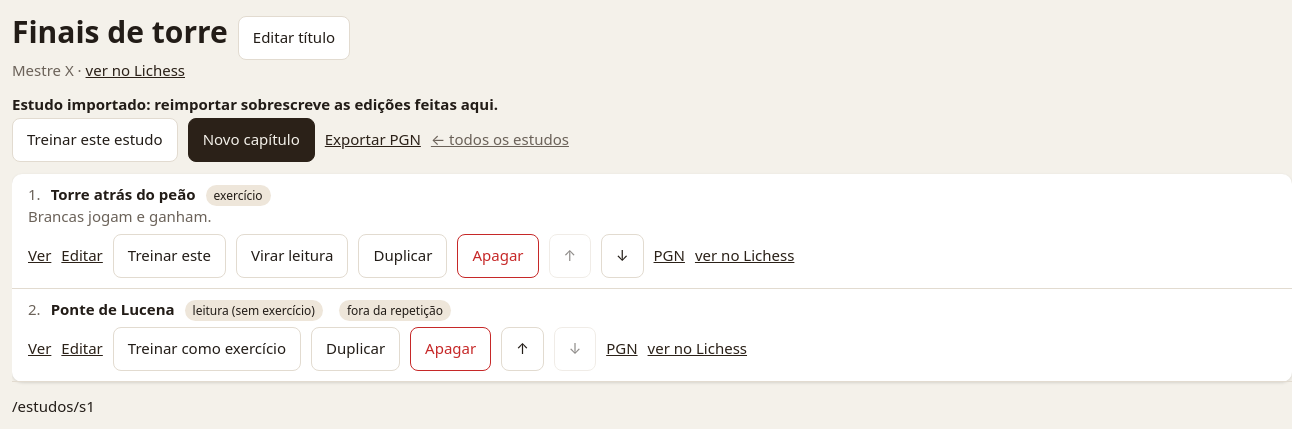
virar exercício sem lances avisa que não vira exercício
expect the text "Ponte de Lucena" is shown: met, box [51, 299, 174, 321]
Click the button "Treinar como exercício". click: (207, 349)
box: [113, 327, 301, 371]
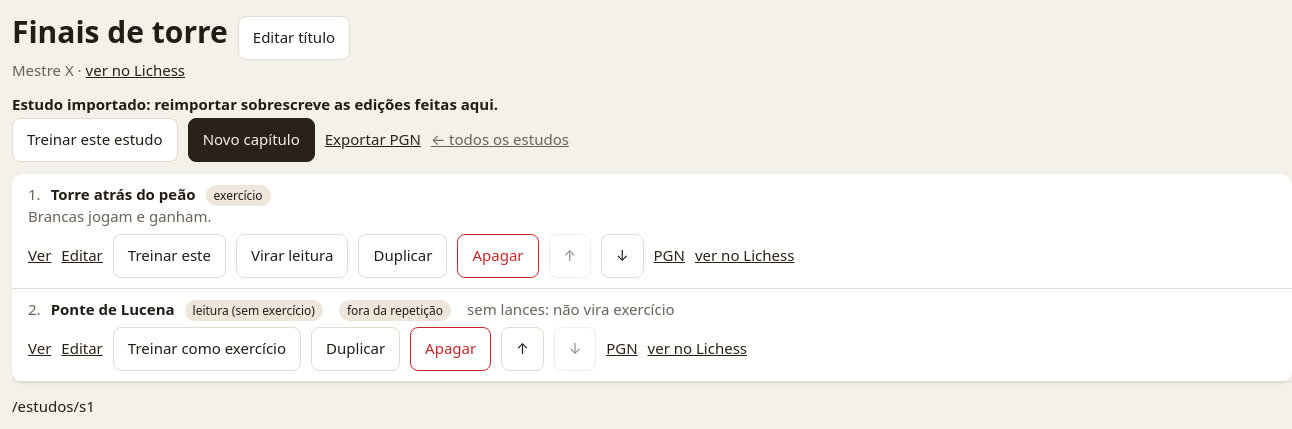
expect the text "sem lances: não vira exercício" is shown: met, box [467, 299, 675, 321]
